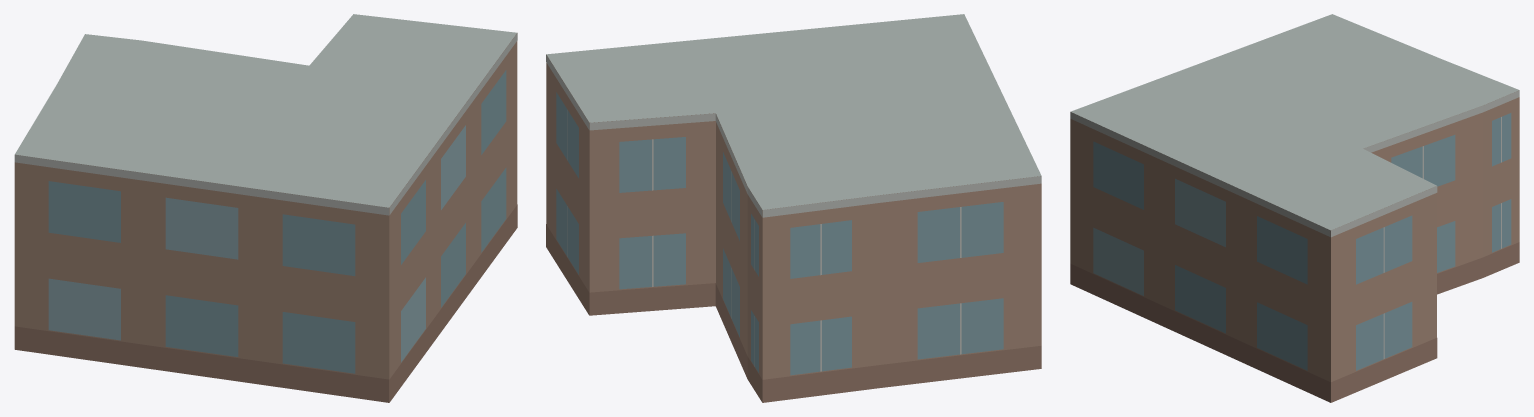
The model's file is survey-upis-32935351.glb.
3 views of the same model, side by side, from view 1: azimuth 30°, elevation 25°; view 2: azimuth 150°, elevation 25°; view 3: azimuth 270°, elevation 25° (orthographic). The views are drawn at different scales.
Visible parts, largest first — view 1: survey-upis-32935351.tmp; view 2: survey-upis-32935351.tmp; view 3: survey-upis-32935351.tmp.
Boxes of the visible parts, left/top/right/bottom form: survey-upis-32935351.tmp: left=14, top=14, right=517, bottom=402; survey-upis-32935351.tmp: left=546, top=14, right=1041, bottom=402; survey-upis-32935351.tmp: left=1070, top=14, right=1519, bottom=402.
Size of the model in its own units: 16.43 by 6.1 by 14.41.
